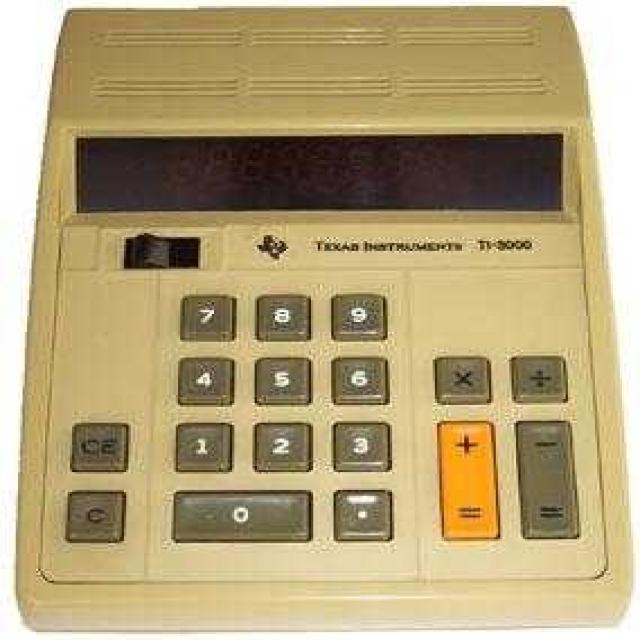Calculator: (14, 2, 633, 632)
